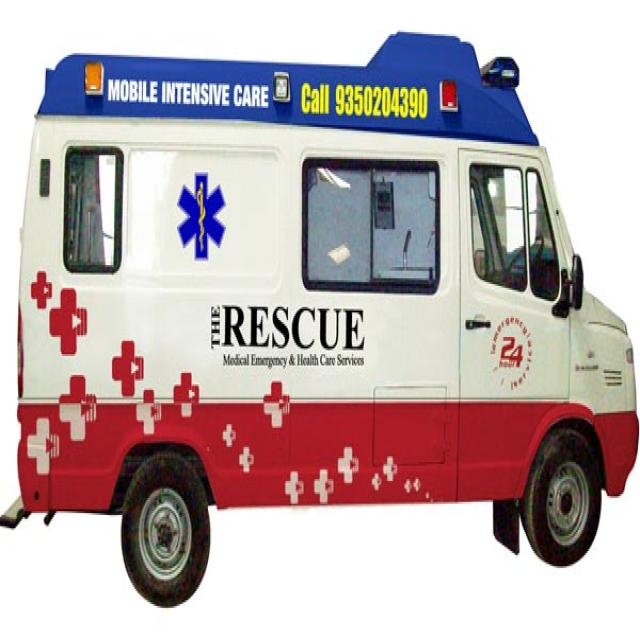emergency: (0, 33, 640, 605)
